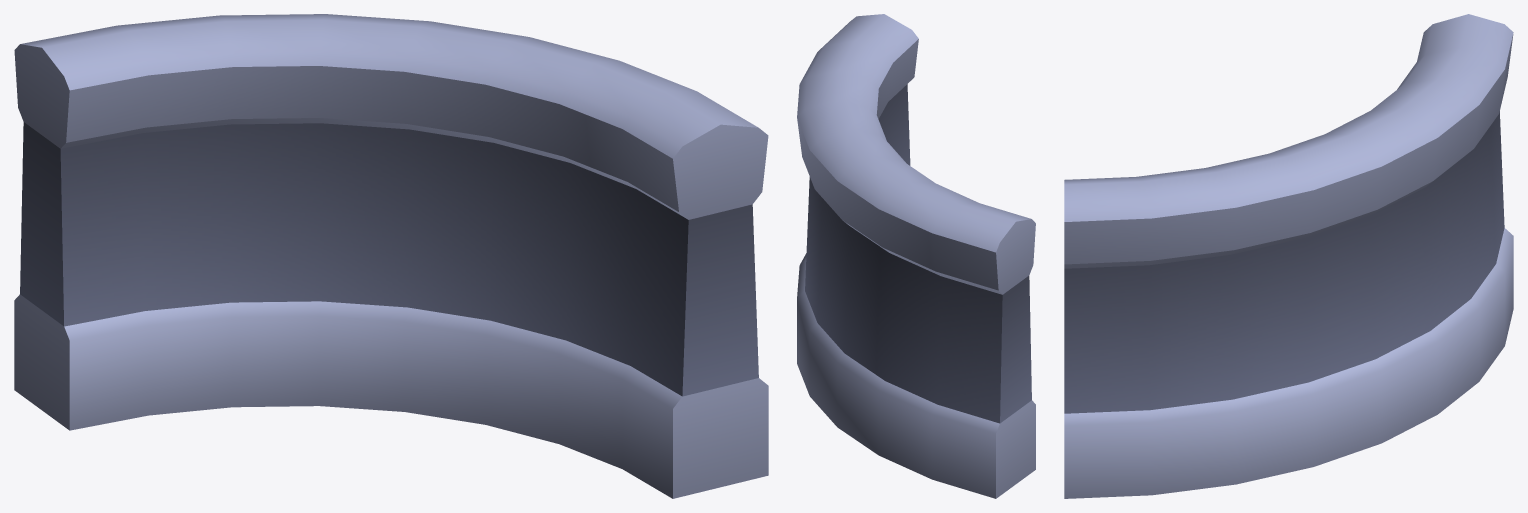
The model's file is stone-wall-curve.glb.
3 renders of one model, left to right at view 1: azimuth 30°, elevation 25°; view 2: azimuth 150°, elevation 25°; view 3: azimuth 270°, elevation 25°, orthographic. The views are drawn at different scales.
Parts seen in each view (by area): view 1: stone-wall-curve; view 2: stone-wall-curve; view 3: stone-wall-curve.
Part boxes in pixels (x1=…): stone-wall-curve: x1=14, y1=14, x2=768, y2=498; stone-wall-curve: x1=797, y1=14, x2=1035, y2=498; stone-wall-curve: x1=1064, y1=14, x2=1513, y2=498.
Size of the model in its own units: 20 by 14.5 by 20.
1 material, 1 textured.
